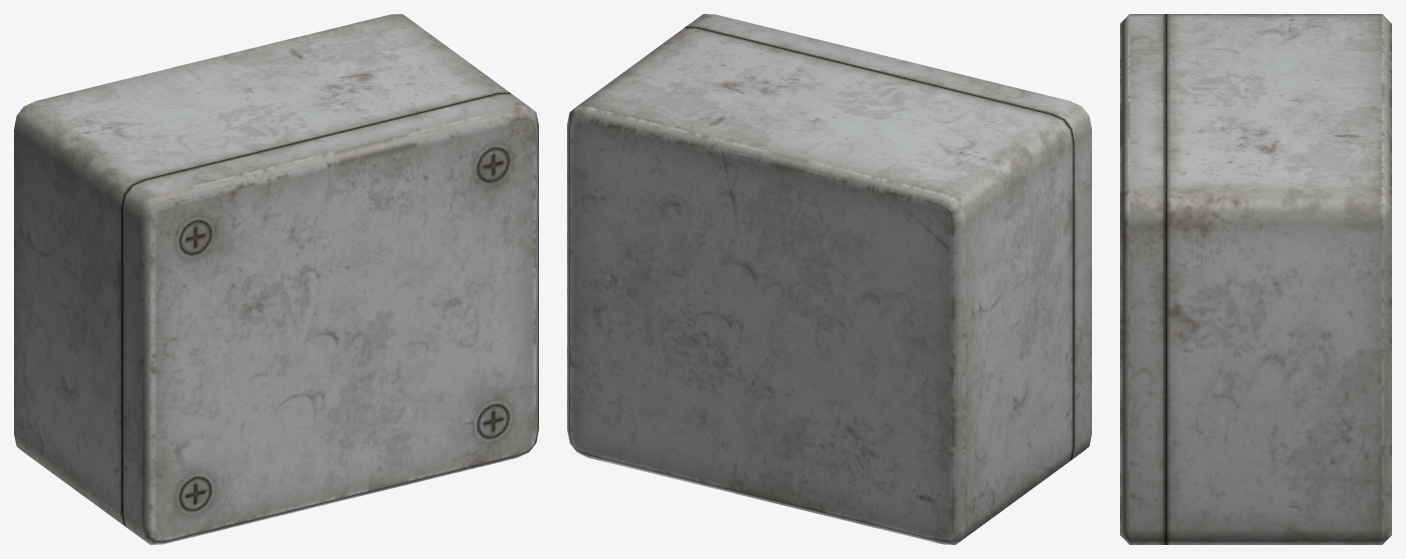
The model's file is M_ElectricBox_01.FBX.
3 views of the same model, side by side, from view 1: azimuth 30°, elevation 25°; view 2: azimuth 150°, elevation 25°; view 3: azimuth 270°, elevation 25° (orthographic).
Parts seen in each view (by area): view 1: M_ElectricBox_01; view 2: M_ElectricBox_01; view 3: M_ElectricBox_01.
Boxes of the visible parts, box(x1,y1,x2,y2) form: M_ElectricBox_01: box(14, 14, 538, 544); M_ElectricBox_01: box(567, 14, 1091, 544); M_ElectricBox_01: box(1120, 14, 1391, 544).
Bounding box in the file's own units: 10.19 × 6.02 × 8.58.
